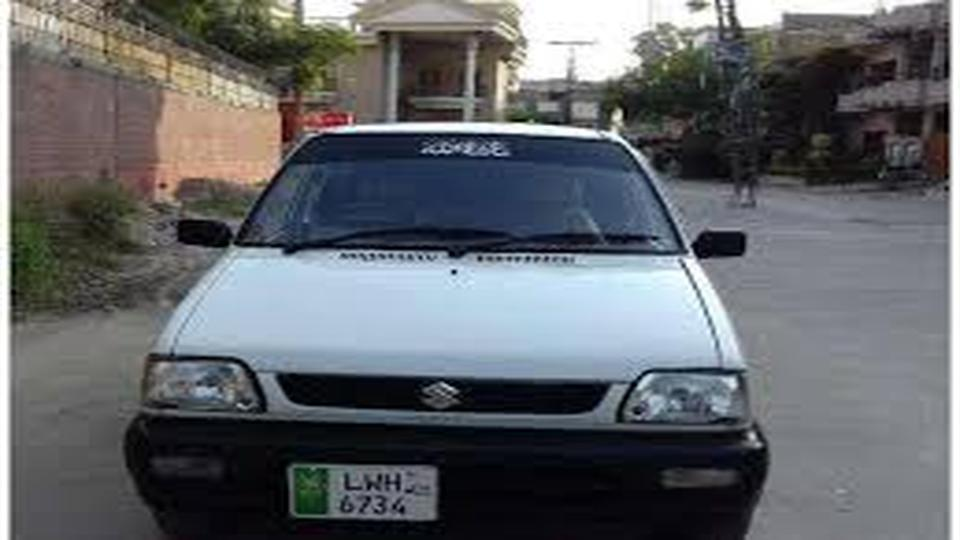NumberPlate: (276, 463, 453, 527)
